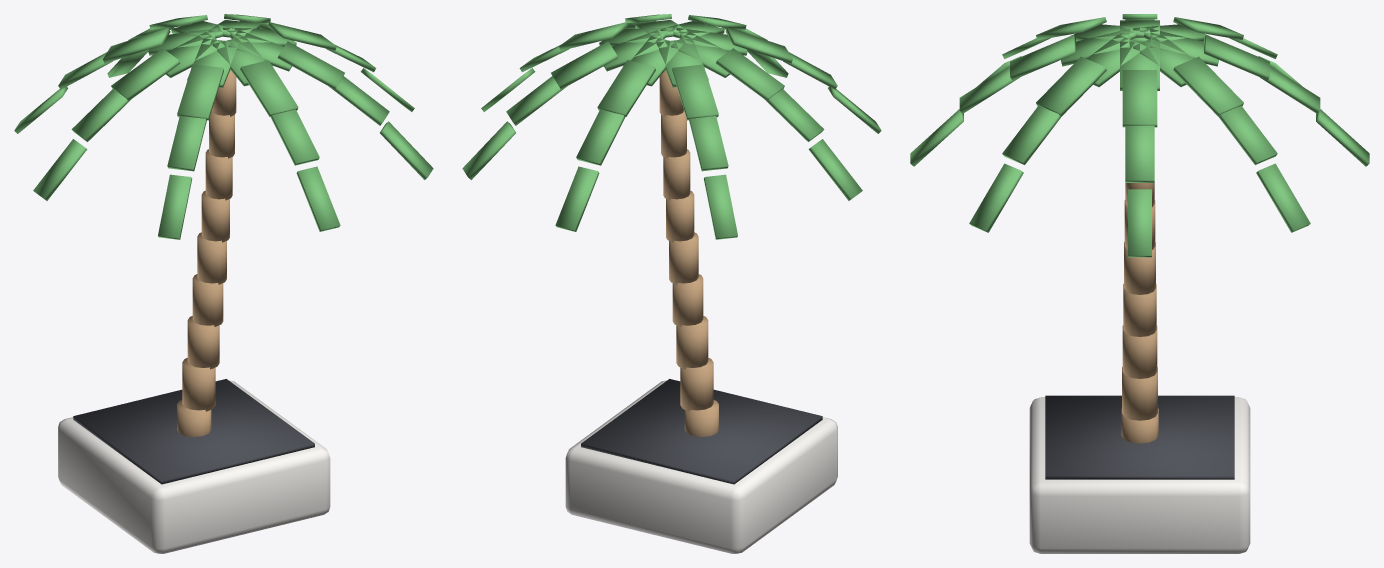
File: Planter.fbx
3 views of the same model, side by side, from view 1: azimuth 30°, elevation 25°; view 2: azimuth 150°, elevation 25°; view 3: azimuth 270°, elevation 25° (orthographic). The views are drawn at different scales.
Parts seen in each view (by area): view 1: Leaf, Marble.003, Dark.005, Wood; view 2: Leaf, Marble.003, Dark.005, Wood; view 3: Leaf, Marble.003, Dark.005, Wood.
Part boxes in pixels (<box>): Leaf: <box>14,14,433,239</box>; Marble.003: <box>58,380,330,553</box>; Dark.005: <box>73,379,314,484</box>; Wood: <box>177,70,236,436</box>; Leaf: <box>462,14,881,239</box>; Marble.003: <box>565,380,837,553</box>; Dark.005: <box>581,379,822,484</box>; Wood: <box>659,70,718,436</box>; Leaf: <box>910,14,1369,257</box>; Marble.003: <box>1029,397,1250,553</box>; Dark.005: <box>1045,395,1234,479</box>; Wood: <box>1121,183,1158,443</box>.
Size of the model in its own units: 1042 by 1227 by 1042.
